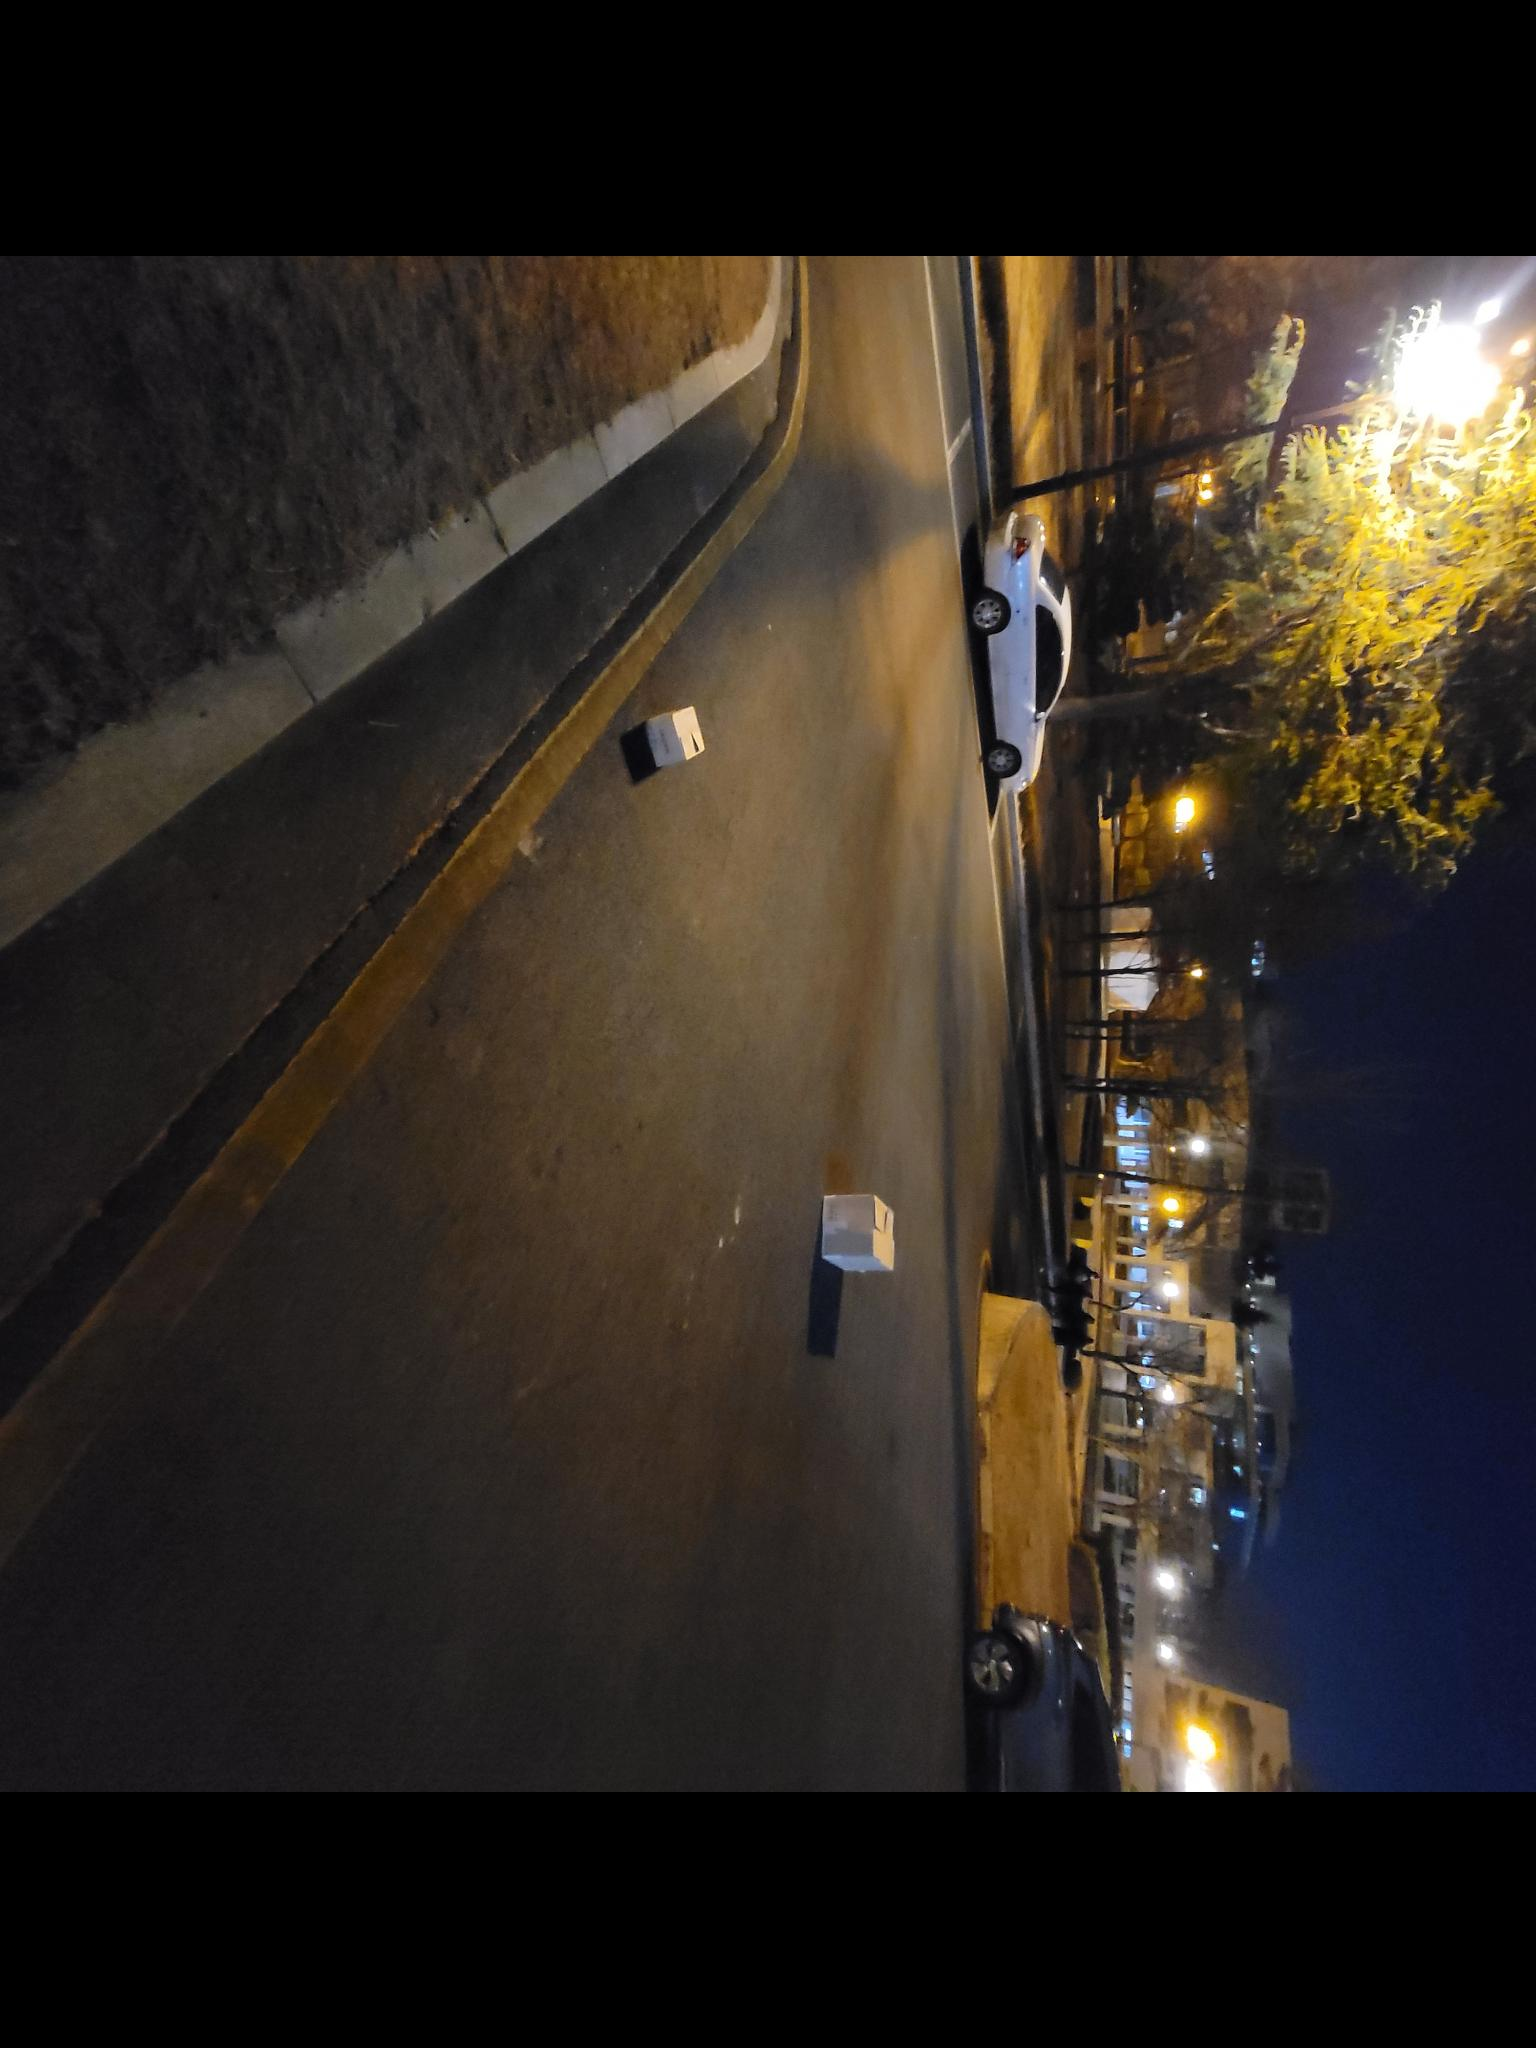Box: (803, 1187, 900, 1290), (637, 705, 716, 771)
